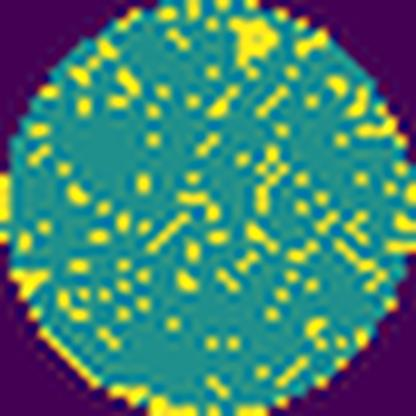Edge-Loc: (227, 16, 276, 77)
